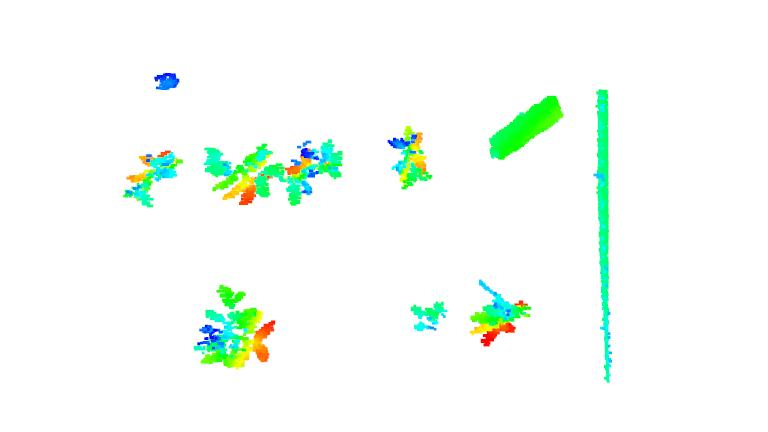chickpea: (195, 283, 278, 368), (202, 138, 285, 208), (277, 136, 349, 208), (469, 277, 531, 346), (382, 118, 433, 193), (120, 147, 183, 205), (407, 298, 452, 336)
